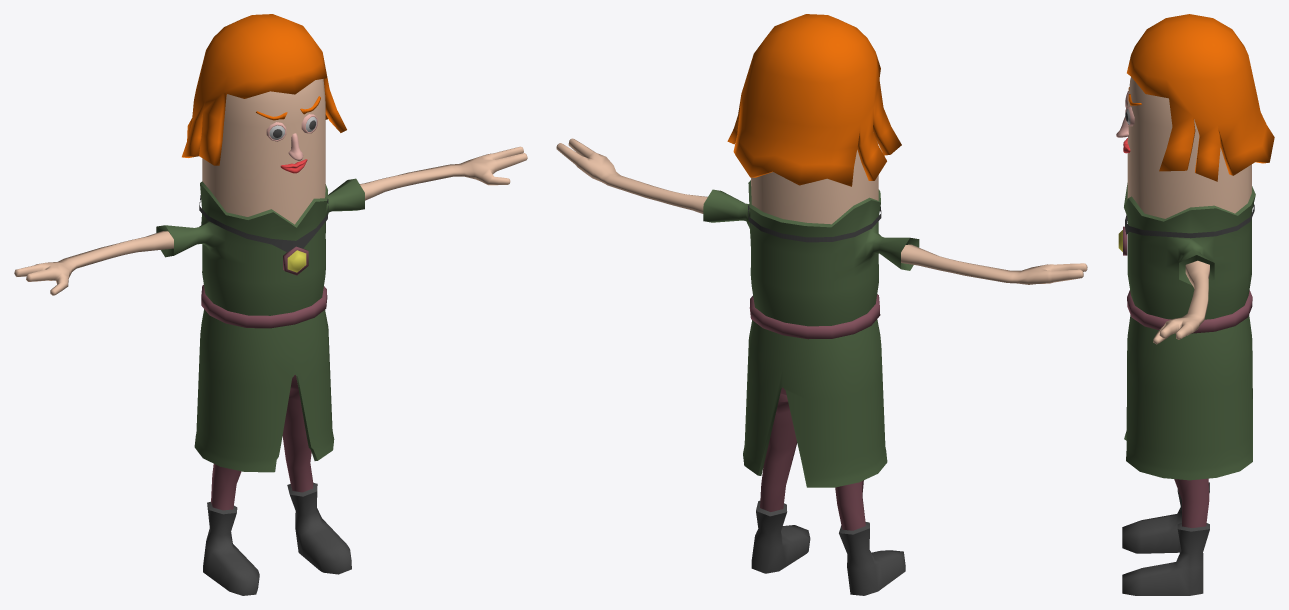
The model's file is Healer.fbx.
3 views of the same model, side by side, from view 1: azimuth 30°, elevation 25°; view 2: azimuth 150°, elevation 25°; view 3: azimuth 270°, elevation 25° (orthographic). The views are drawn at different scales.
Parts seen in each view (by area): view 1: Healer; view 2: Healer; view 3: Healer.
Boxes of the visible parts, box(x1,y1,x2,y2) form: Healer: box(14, 14, 527, 595); Healer: box(556, 14, 1087, 595); Healer: box(1116, 14, 1274, 595).
Size of the model in its own units: 125 by 127 by 33.13.
